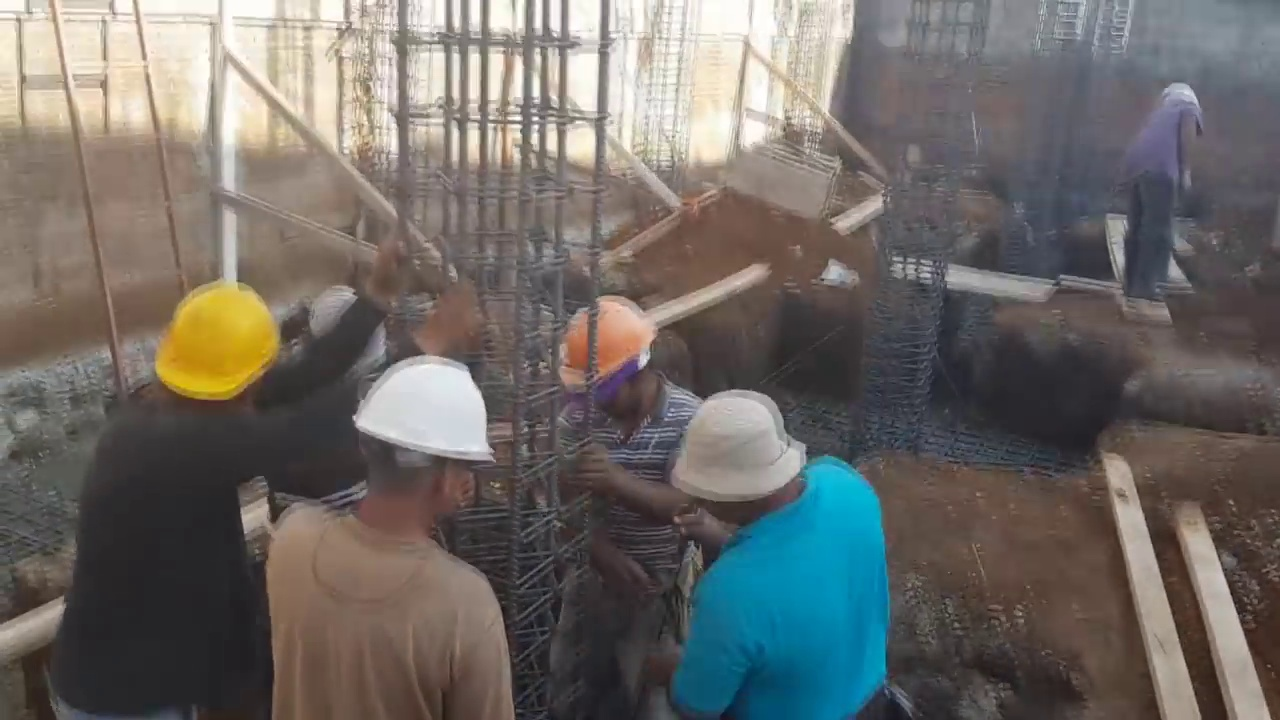helmet: (351, 357, 497, 479), (154, 281, 276, 400), (558, 302, 654, 409)
helmet-off: (667, 393, 808, 552)
helmet-on: (342, 356, 496, 549), (141, 280, 283, 421), (547, 294, 668, 446), (1159, 72, 1203, 111)
person: (39, 240, 477, 719), (268, 348, 518, 719), (636, 390, 906, 718), (537, 297, 714, 719), (1126, 79, 1207, 315)
